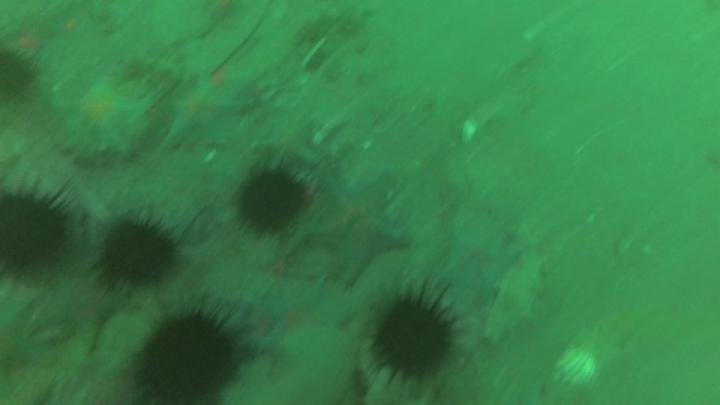echinus: (137, 314, 233, 405), (378, 301, 450, 376), (2, 194, 64, 272), (103, 222, 175, 286), (238, 171, 307, 234)
holothurian: (481, 254, 550, 343)
scallop: (556, 344, 601, 389)
starfish: (312, 179, 415, 285), (53, 78, 148, 158), (40, 277, 122, 355), (165, 76, 247, 149), (440, 224, 520, 297)
